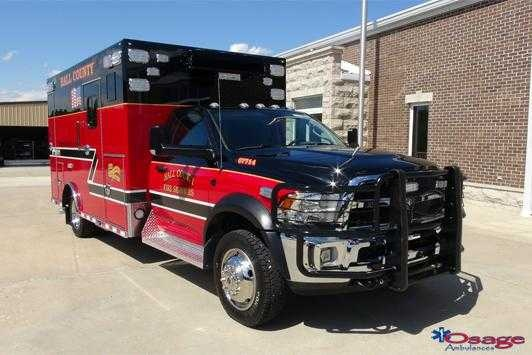Fire Truck: (37, 58, 492, 350)
